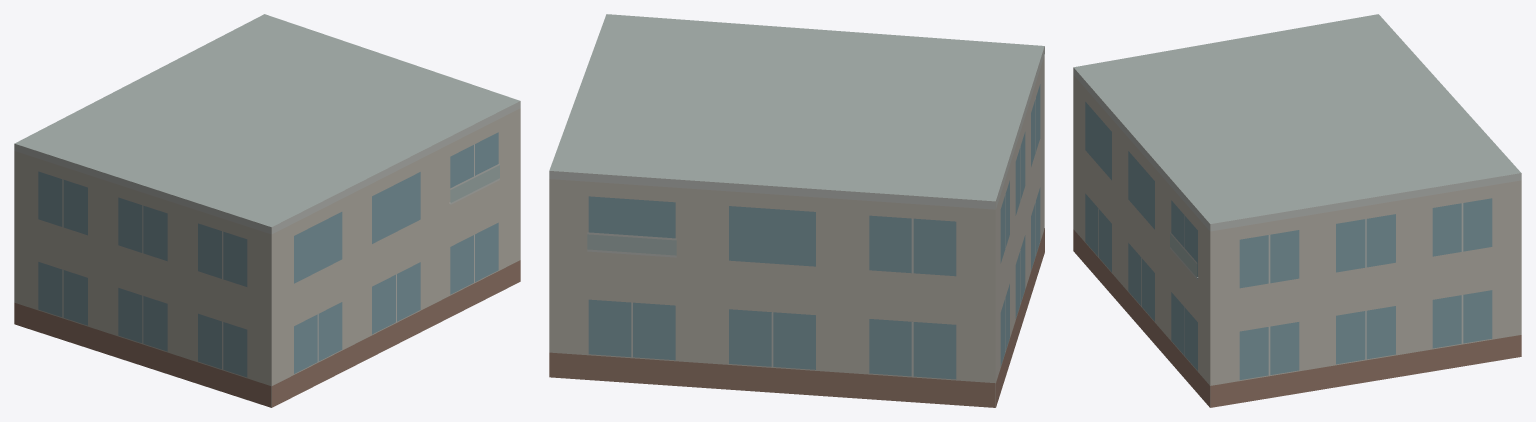
File: survey-upis-32673743.glb
3 views of the same model, side by side, from view 1: azimuth 30°, elevation 25°; view 2: azimuth 150°, elevation 25°; view 3: azimuth 270°, elevation 25° (orthographic). The views are drawn at different scales.
Parts seen in each view (by area): view 1: survey-upis-32673743.tmp; view 2: survey-upis-32673743.tmp; view 3: survey-upis-32673743.tmp.
Boxes of the visible parts, left/top/right/bottom form: survey-upis-32673743.tmp: left=14, top=14, right=520, bottom=407; survey-upis-32673743.tmp: left=549, top=14, right=1044, bottom=407; survey-upis-32673743.tmp: left=1073, top=14, right=1521, bottom=407.
Size of the model in its own units: 14.97 by 6.1 by 13.49.
